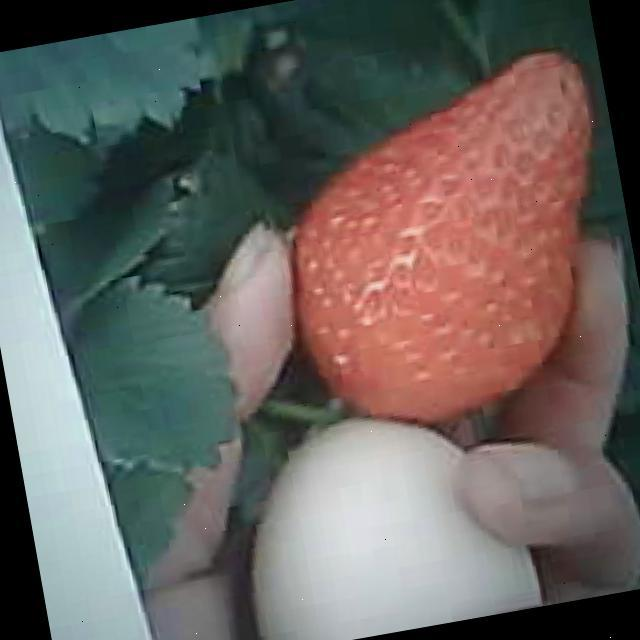ripe: (261, 46, 640, 438)
